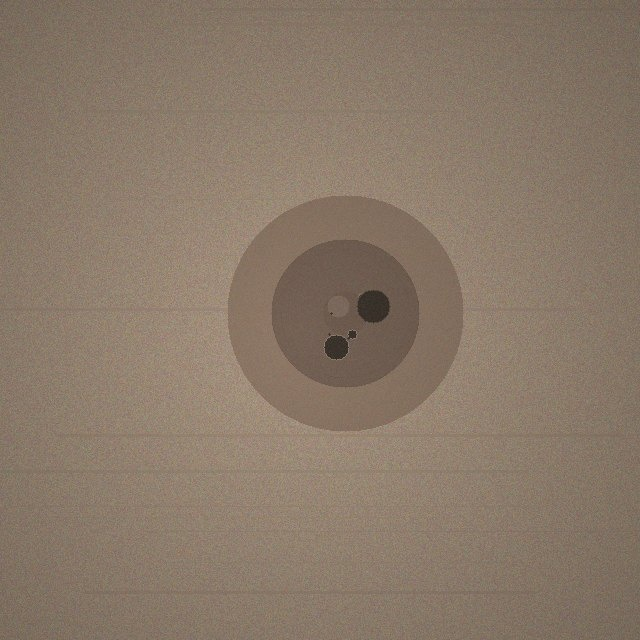shrinkage: (227, 195, 463, 431)
